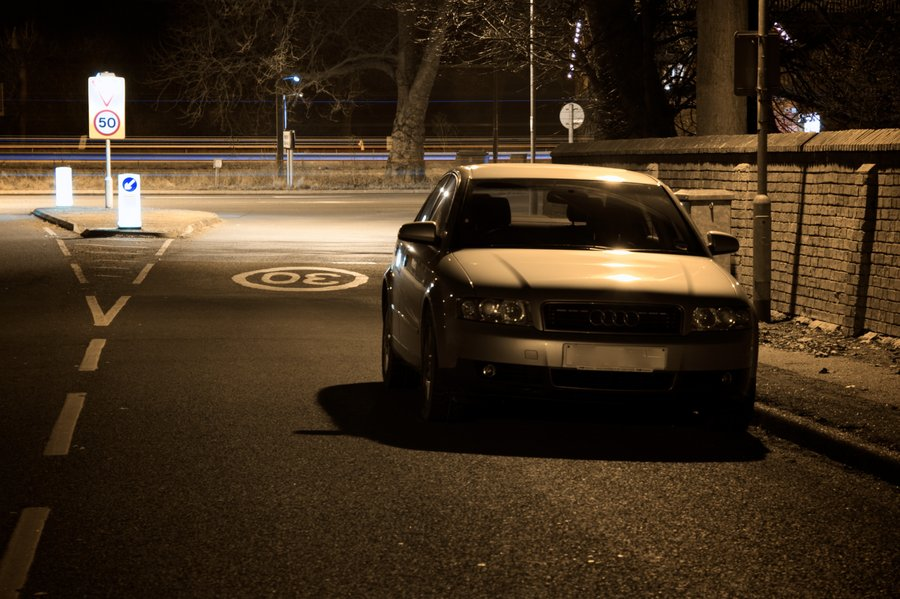car: (374, 159, 770, 432)
